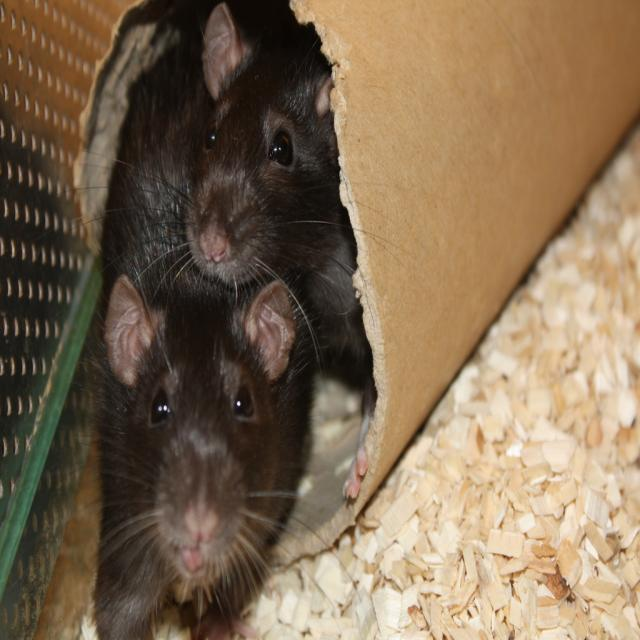rat: (45, 30, 368, 640), (66, 0, 363, 502)
